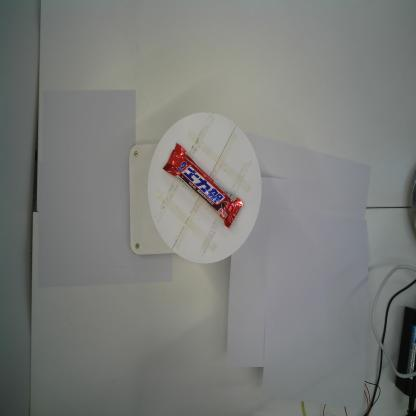Chocolate: (162, 142, 244, 230)
